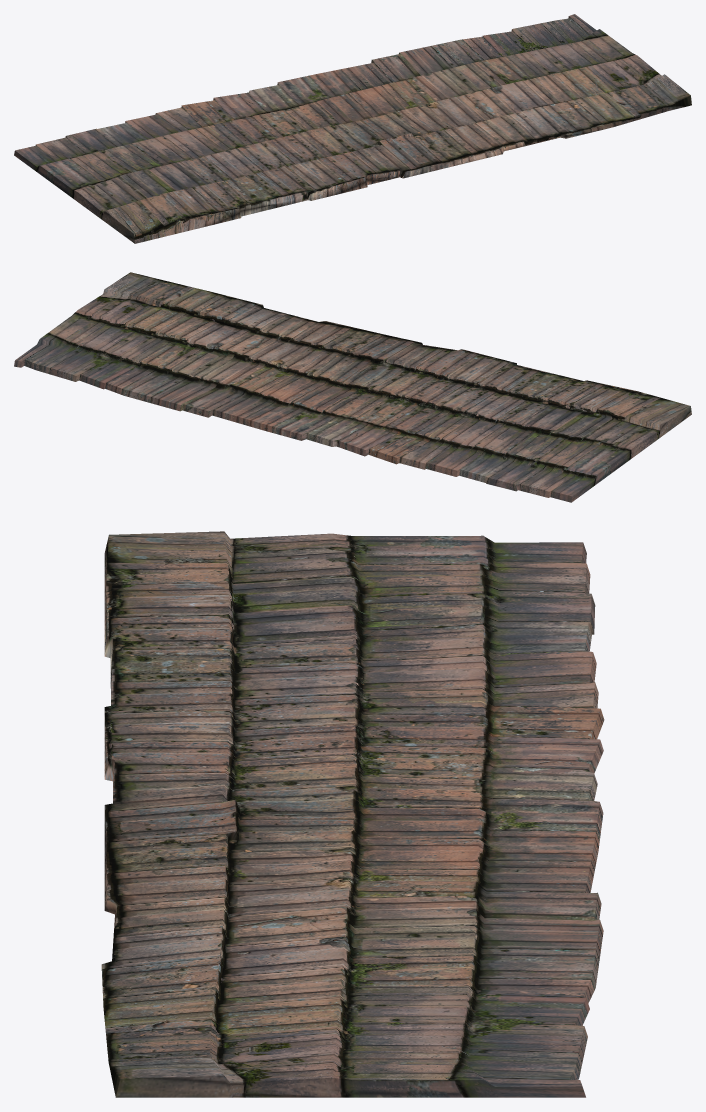
File: SM_OldCeramicRoofTiles_01_05.fbx
3 views of the same model, one above another, from view 1: azimuth 30°, elevation 25°; view 2: azimuth 150°, elevation 25°; view 3: azimuth 270°, elevation 25° (orthographic). The views are drawn at different scales.
Parts seen in each view (by area): view 1: sm_OldCeramicRoofTiles_01_05_LOD0; view 2: sm_OldCeramicRoofTiles_01_05_LOD0; view 3: sm_OldCeramicRoofTiles_01_05_LOD0.
Part boxes in pixels (x1,y1,x2,y2): sm_OldCeramicRoofTiles_01_05_LOD0: [14, 14, 691, 243]; sm_OldCeramicRoofTiles_01_05_LOD0: [14, 272, 691, 502]; sm_OldCeramicRoofTiles_01_05_LOD0: [101, 531, 604, 1097].
Size of the model in its own units: 234 by 600 by 13.54.
